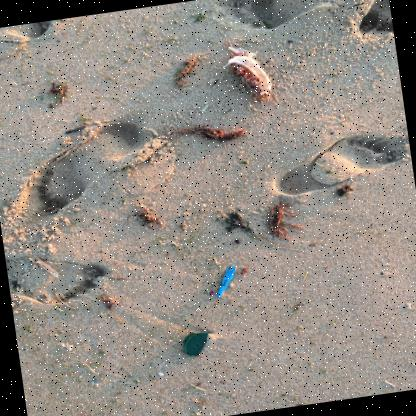Other plastic bottle: (221, 46, 272, 95), (216, 265, 236, 297)
Plastic lid: (183, 332, 208, 356)
